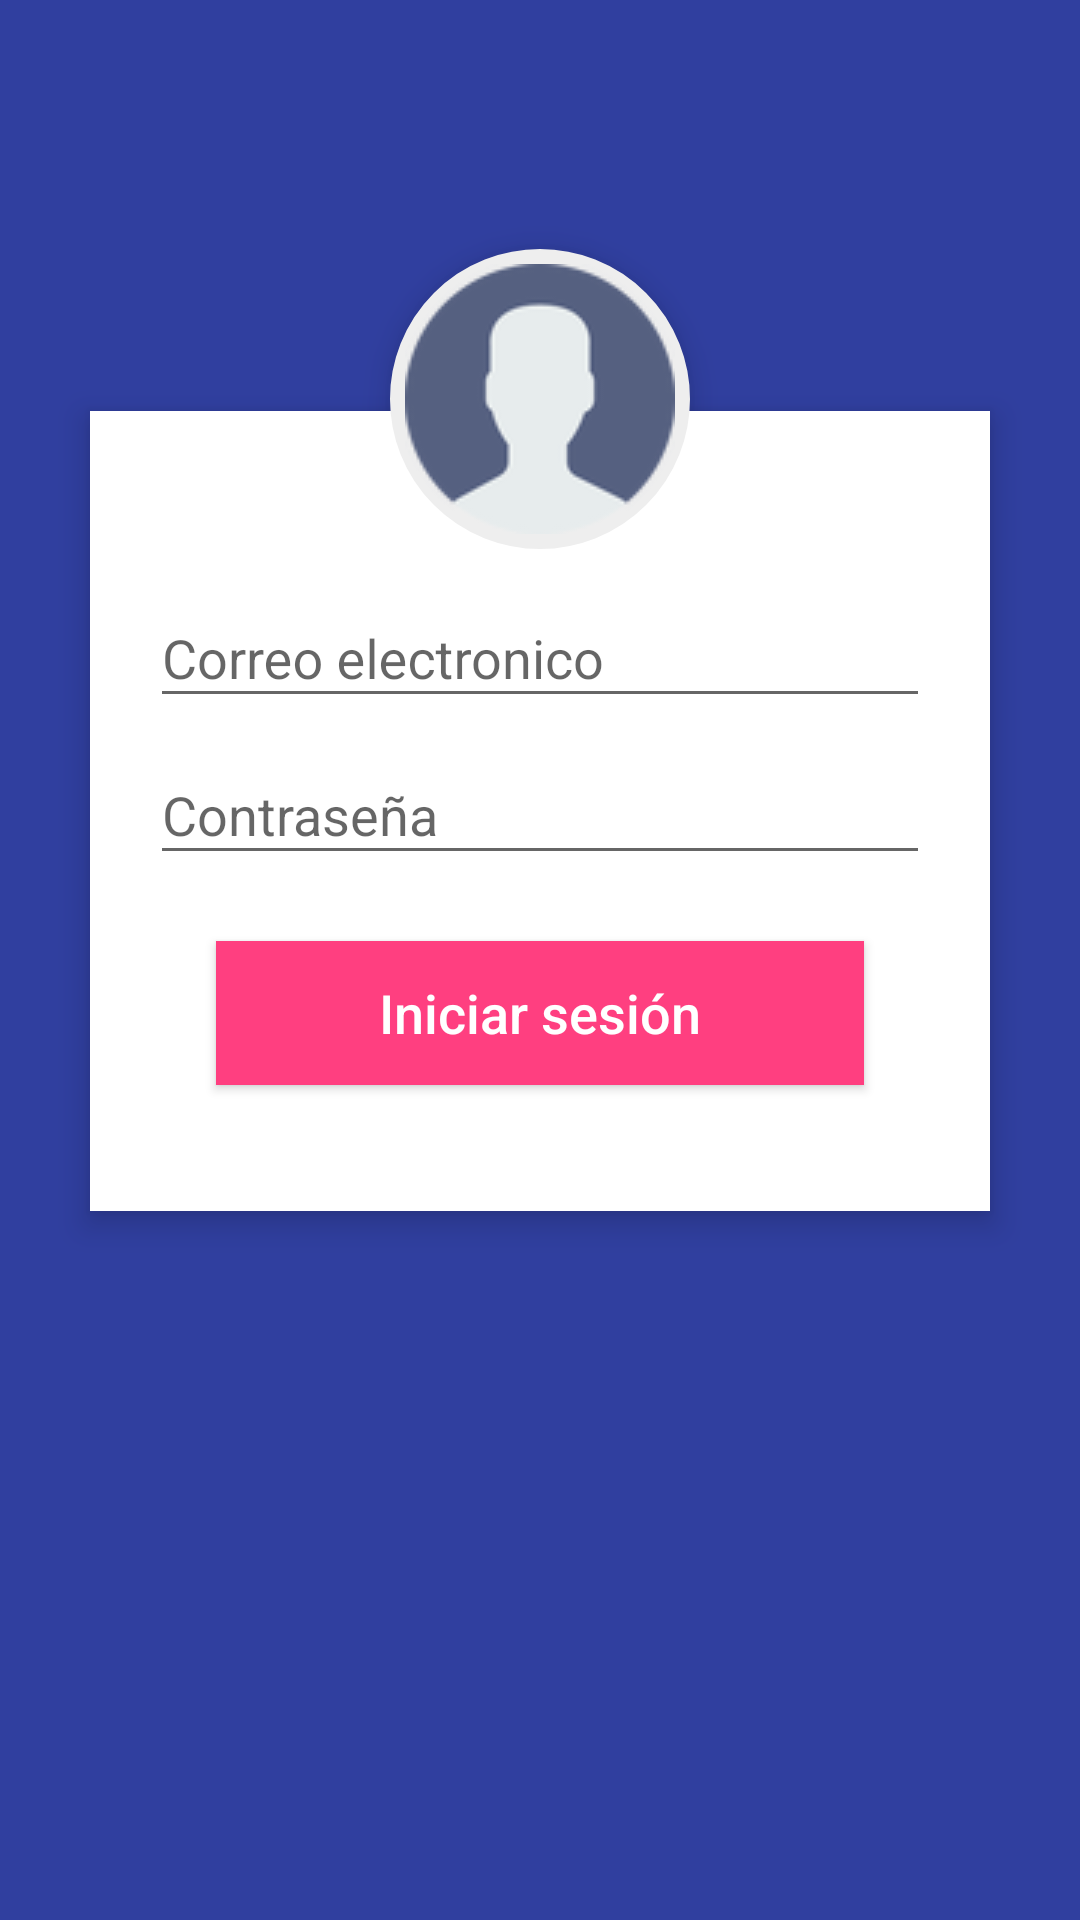

Screen size 1080px x 1920px. Icon name, then its center in pixels as point (x, y):
user: point (540, 399)
